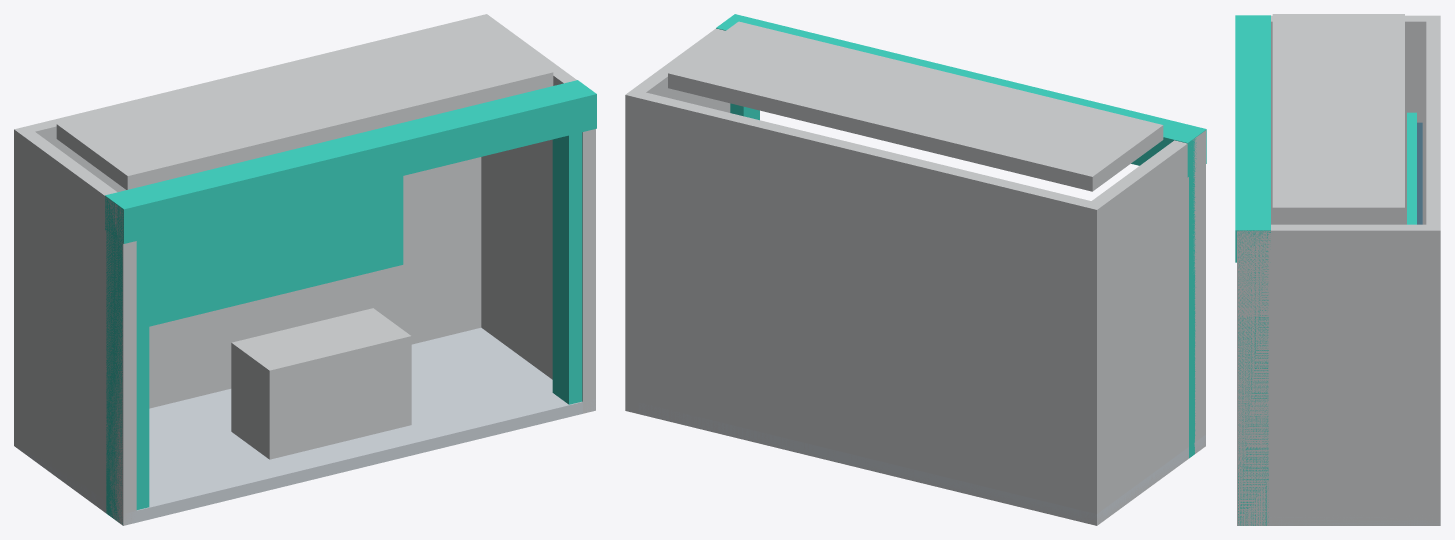
3 renders of one model, left to right at view 1: azimuth 30°, elevation 25°; view 2: azimuth 150°, elevation 25°; view 3: azimuth 270°, elevation 25°, orthographic. The views are drawn at different scales.
Visible parts, largest first — view 1: Exhibition Booth Concept; view 2: Exhibition Booth Concept; view 3: Exhibition Booth Concept.
Boxes of the visible parts, x1=… form: Exhibition Booth Concept: x1=14, y1=14, x2=596, y2=525; Exhibition Booth Concept: x1=625, y1=14, x2=1206, y2=525; Exhibition Booth Concept: x1=1235, y1=14, x2=1440, y2=525.
Bounding box in the file's own units: 5 × 3.34 × 2.01.
